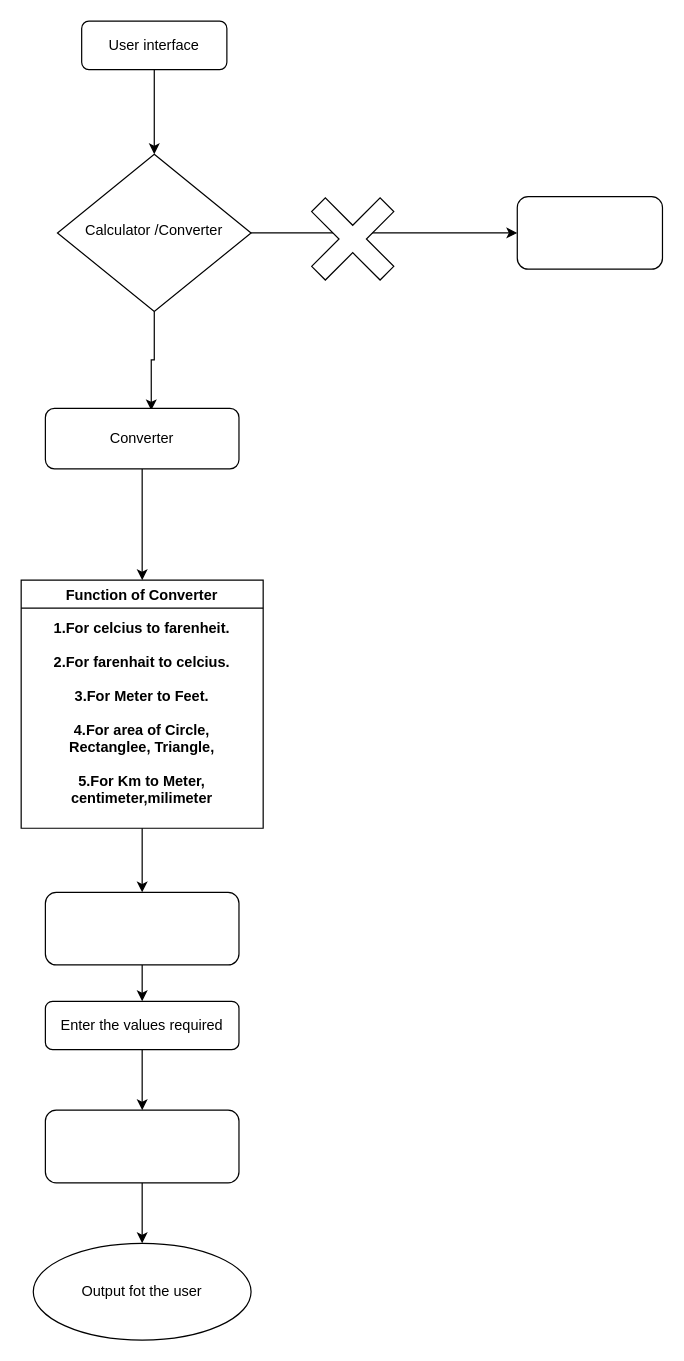
This 684x1361 diagram has some shape labels left out. Each missing label, with the centre of its shape:
"Calculation done for Values as per Function" goes at (x=141, y=1146).
"Calculator" goes at (x=589, y=232).
"Move to Selected Fnction" goes at (x=141, y=928).
